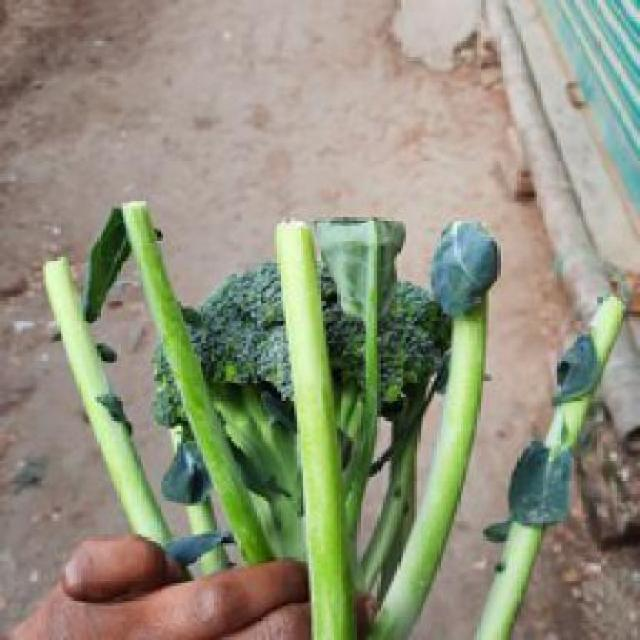broccoli: (143, 252, 503, 538)
